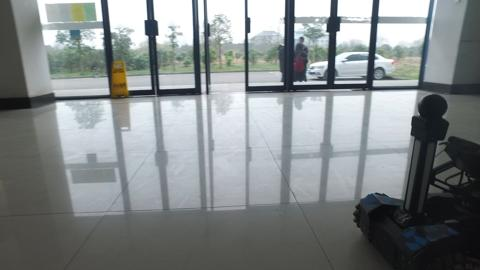chariot: (347, 81, 480, 270)
